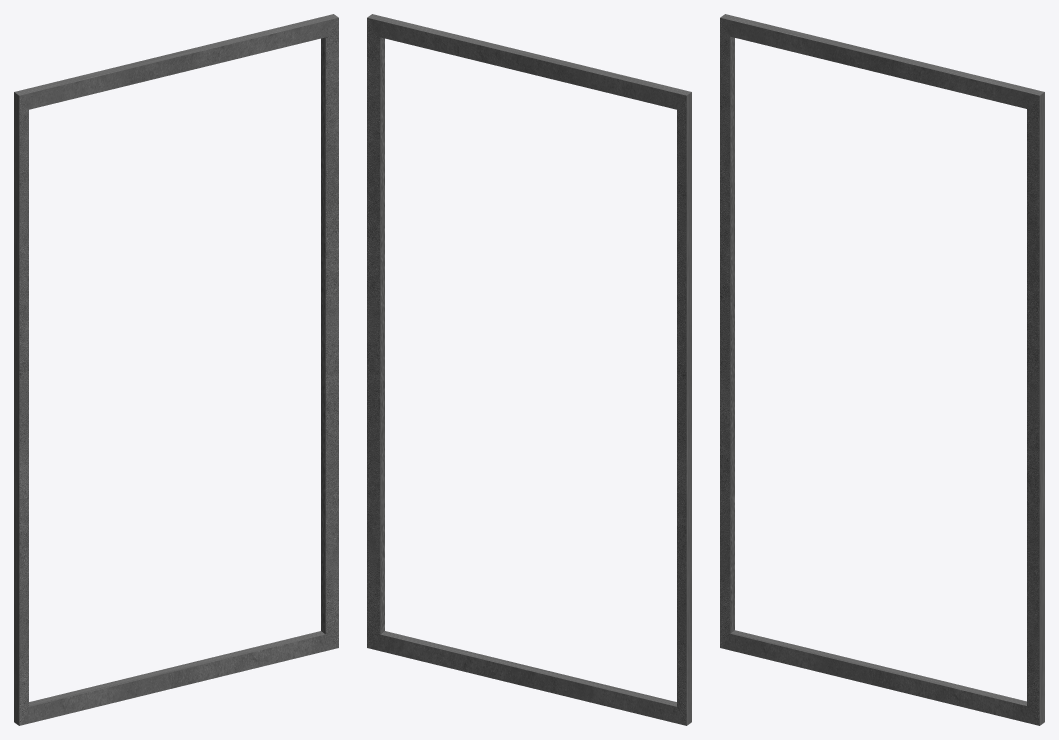
File: marcobalconprincipal.obj
The picture shows the model from 3 angles, left to right: view 1: azimuth 30°, elevation 25°; view 2: azimuth 150°, elevation 25°; view 3: azimuth 330°, elevation 25°; orthographic projection.
Visible parts, largest first — view 1: polySurface3polySurface2pCube39; view 2: polySurface3polySurface2pCube39; view 3: polySurface3polySurface2pCube39.
Part boxes in pixels (x1,y1,x2,y2): polySurface3polySurface2pCube39: (14,14,338,725); polySurface3polySurface2pCube39: (367,14,691,725); polySurface3polySurface2pCube39: (720,14,1044,725).
Bounding box in the file's own units: 1.59 × 3 × 0.0439.
Materials: 1 (1 with a texture image).
